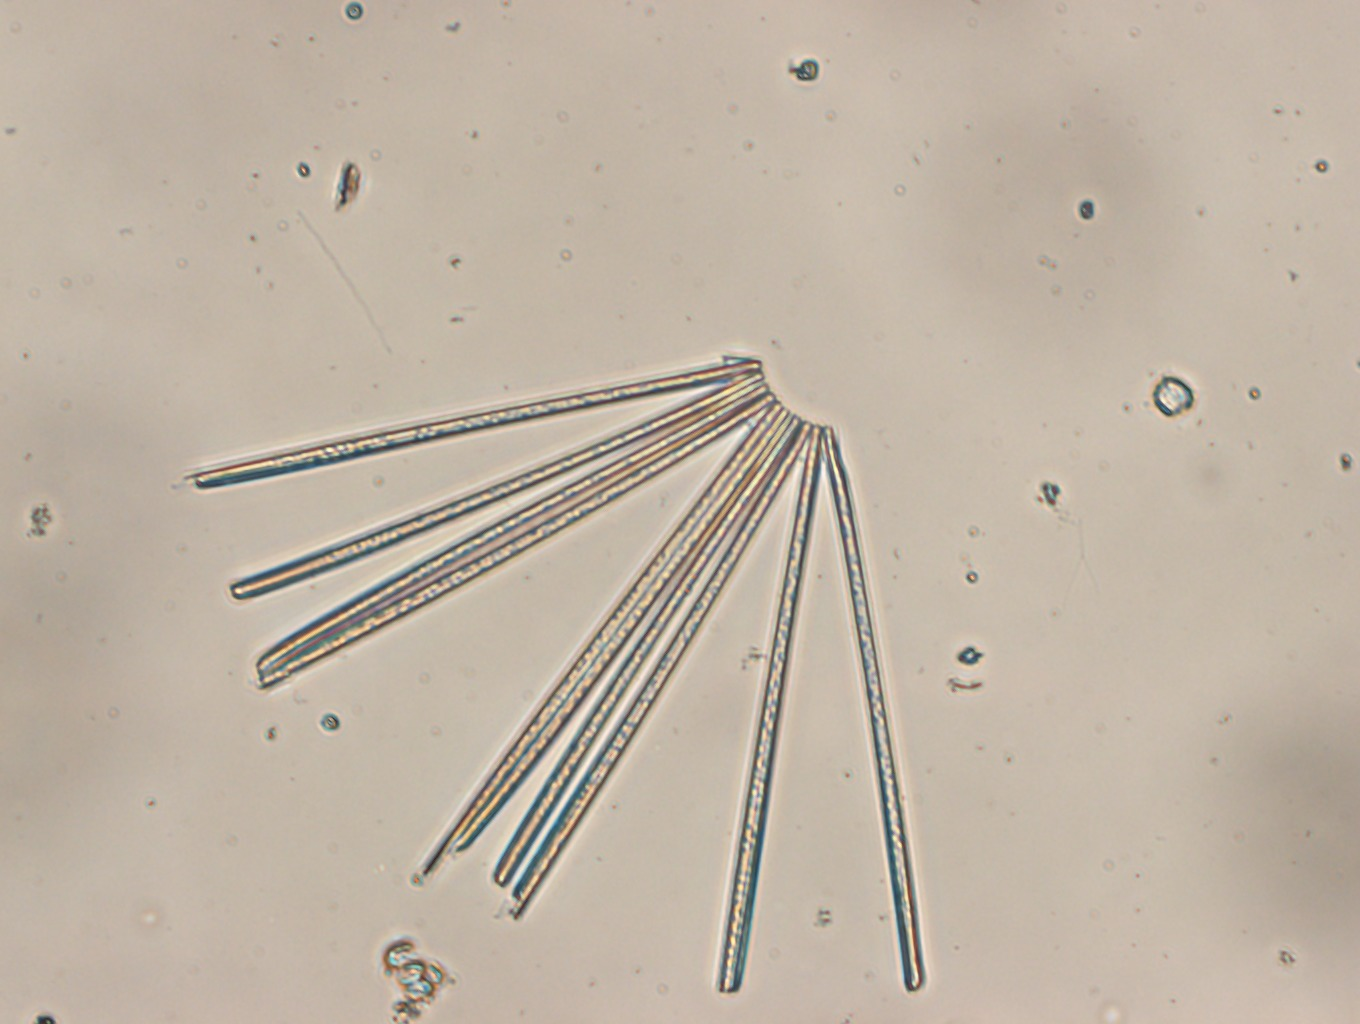thalassionema frauenfeldii: (191, 356, 927, 999)
